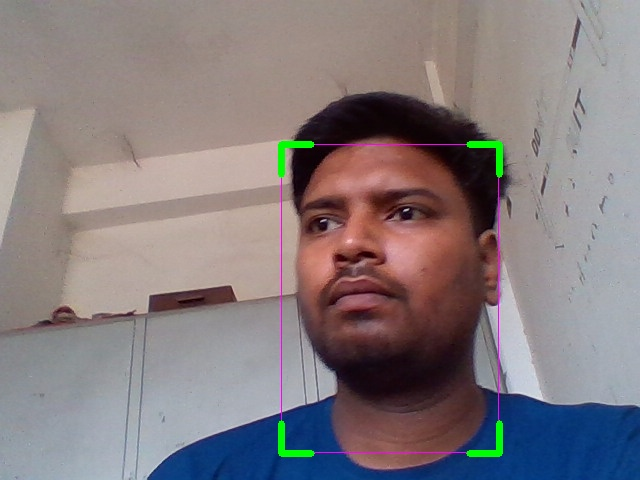real: (281, 144, 499, 453)
